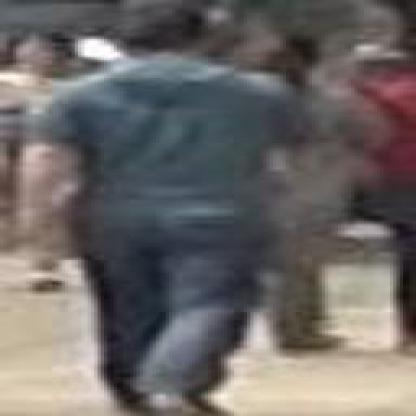adult: (66, 13, 294, 416), (3, 27, 94, 291), (348, 1, 416, 332), (345, 6, 359, 7)
